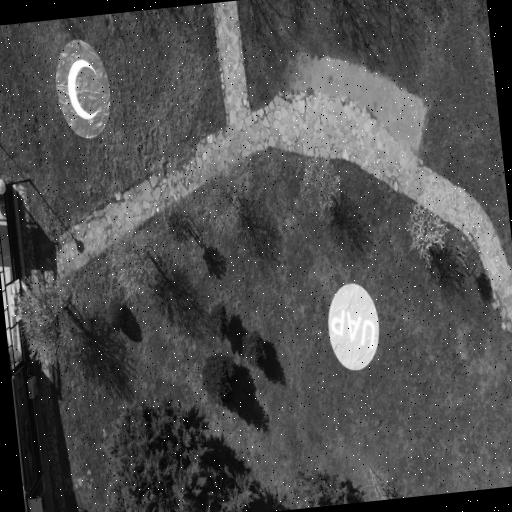UAI: (56, 40, 111, 139)
UAP: (329, 284, 379, 370)
